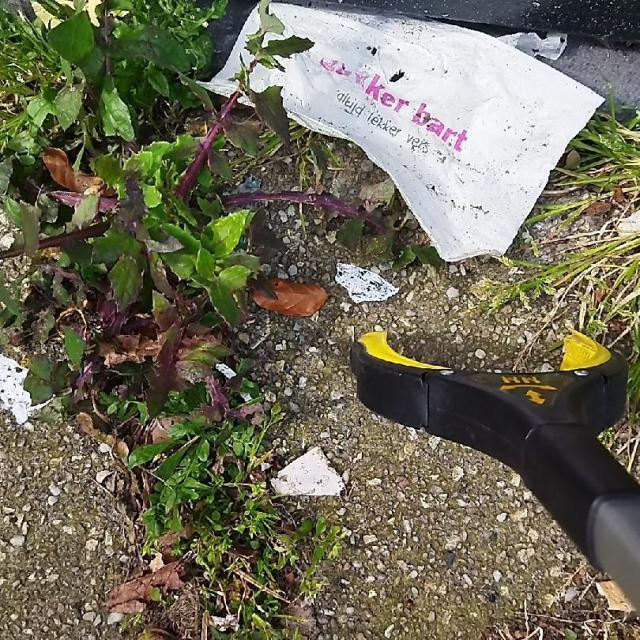Paper: (187, 0, 609, 268)
